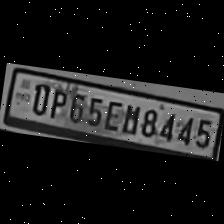4: (172, 111, 195, 145), (156, 107, 178, 141)
5: (190, 113, 214, 148), (82, 94, 104, 127)
6: (64, 88, 86, 122)
8: (137, 104, 159, 138)
E: (100, 97, 121, 131)
M: (118, 100, 140, 134)
P: (46, 83, 68, 119)
U: (26, 79, 52, 116)
